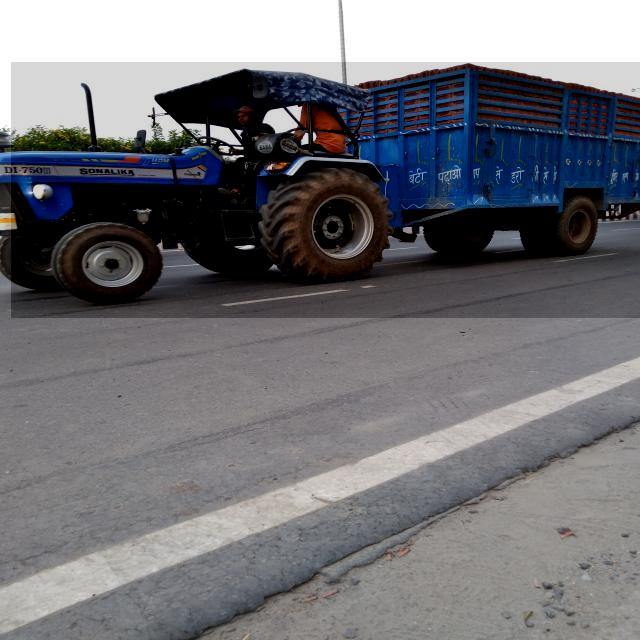Tractot: (11, 62, 640, 318)
